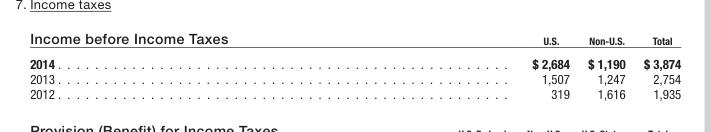table: (29, 29, 680, 101)
table column: (29, 29, 519, 101), (519, 29, 578, 101), (578, 29, 633, 101), (633, 29, 680, 101)
table column header: (29, 29, 680, 50)
table row: (29, 29, 680, 50), (29, 50, 680, 70), (29, 70, 680, 86), (29, 86, 680, 101)
